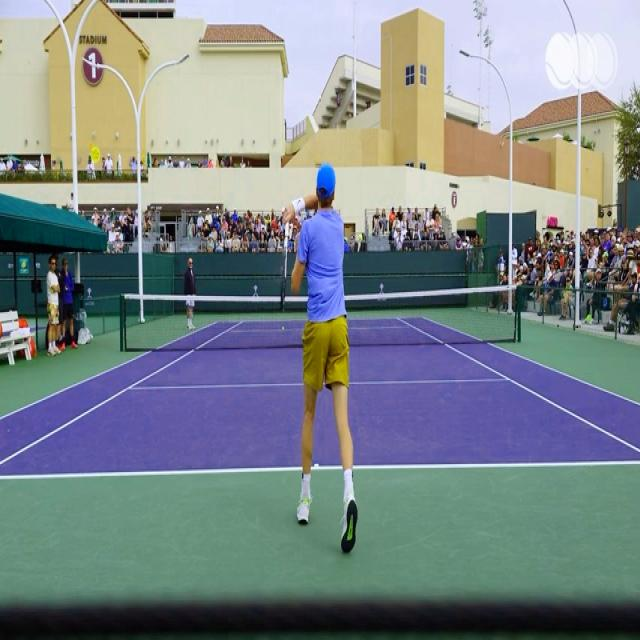forehand-finish: (280, 166, 360, 549)
